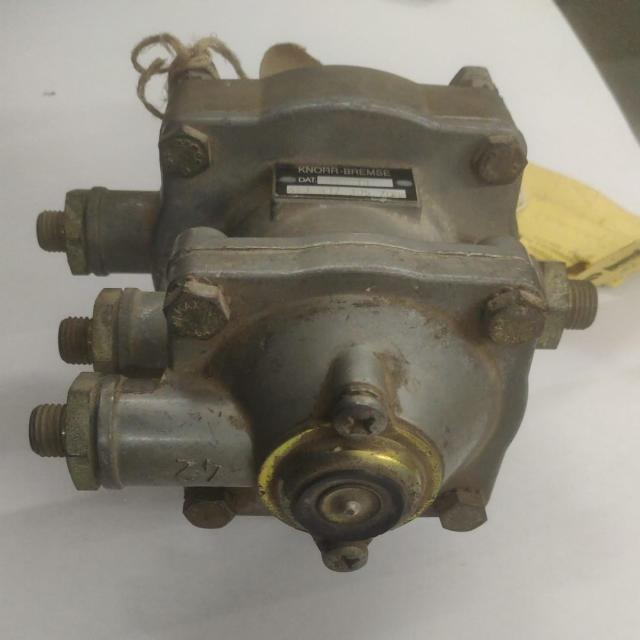video_frame: (29, 30, 596, 574)
